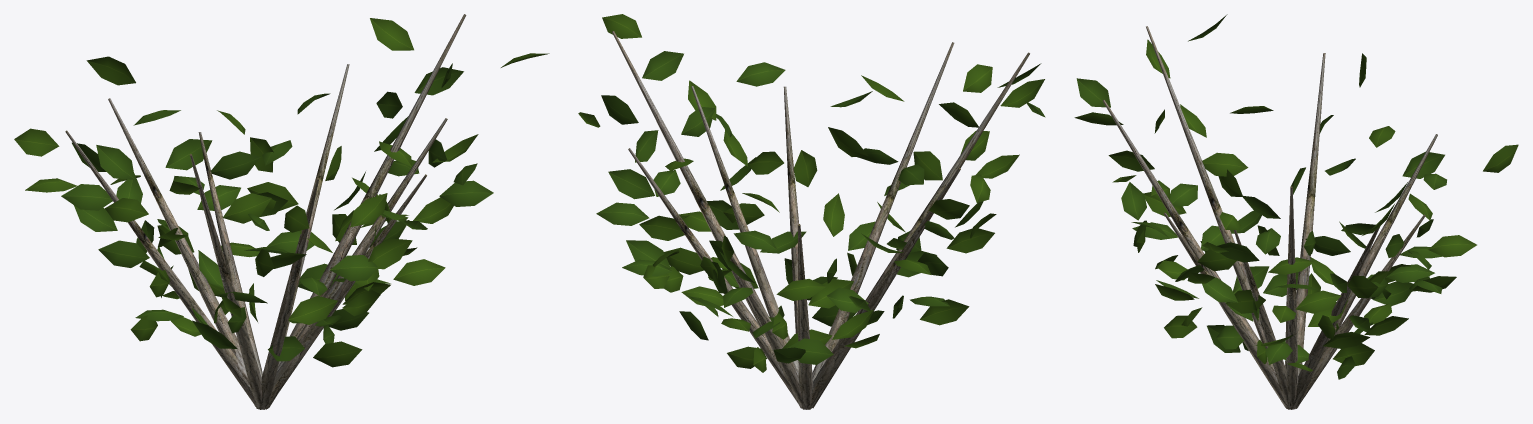
File: woodland_shrub_lod2.gltf
3 renders of one model, left to right at view 1: azimuth 30°, elevation 25°; view 2: azimuth 150°, elevation 25°; view 3: azimuth 270°, elevation 25°, orthographic. The views are drawn at different scales.
Parts seen in each view (by area): view 1: woodland_shrub_lod2; view 2: woodland_shrub_lod2; view 3: woodland_shrub_lod2.
Boxes of the visible parts, left/top/right/bottom form: woodland_shrub_lod2: left=14, top=14, right=549, bottom=409; woodland_shrub_lod2: left=578, top=14, right=1045, bottom=409; woodland_shrub_lod2: left=1074, top=14, right=1518, bottom=409.
Size of the model in its own units: 1.62 by 1.17 by 1.5.
Materials: 3 (3 with a texture image).
